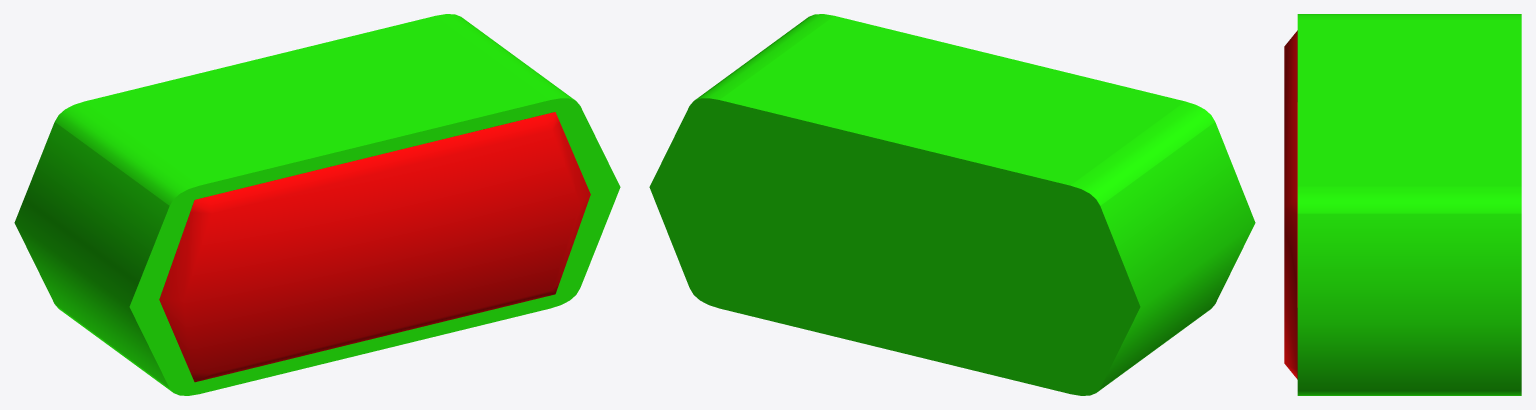
The model's file is umgebung_fernsehertisch_low.FBX.
3 renders of one model, left to right at view 1: azimuth 30°, elevation 25°; view 2: azimuth 150°, elevation 25°; view 3: azimuth 270°, elevation 25°, orthographic. The views are drawn at different scales.
Parts seen in each view (by area): view 1: o_fernseherkommode_low, o_schublade_low; view 2: o_fernseherkommode_low; view 3: o_fernseherkommode_low, o_schublade_low.
Part boxes in pixels (x1,y1,x2,y2): o_fernseherkommode_low: (14,14,620,395); o_schublade_low: (159,112,590,382); o_fernseherkommode_low: (649,14,1255,395); o_fernseherkommode_low: (1297,14,1521,395); o_schublade_low: (1284,30,1297,379).
Size of the model in its own units: 246 by 106 by 100.
